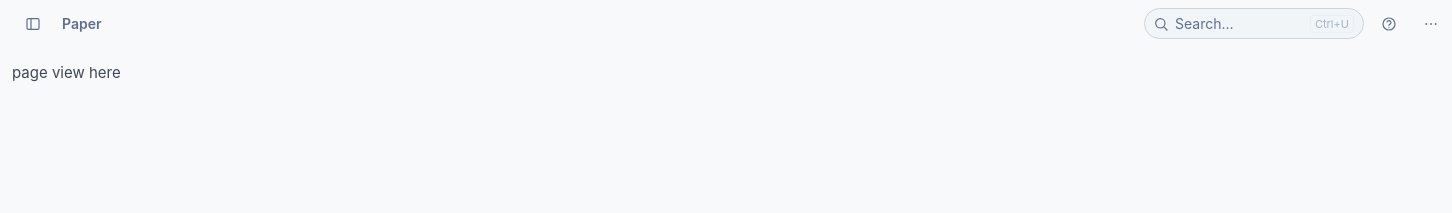
closes the menu on Escape
Click the button named "Page menu" at {"x": 1431, "y": 24}, box top-left (1414, 10), bottom-right (1448, 38)
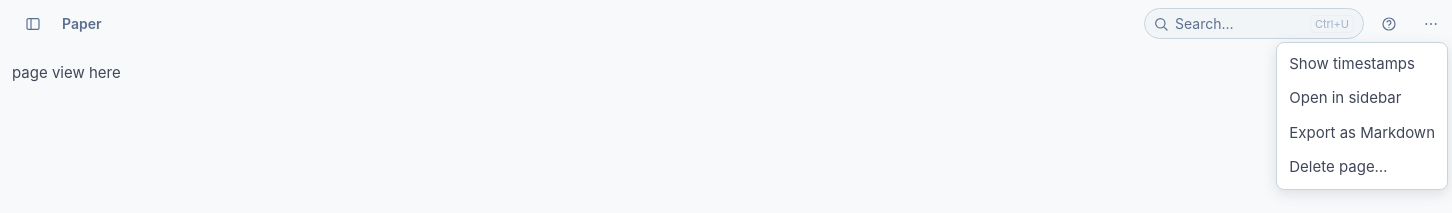
Expected: the menu is shown, top-left (1276, 42), bottom-right (1448, 190)
Press Escape
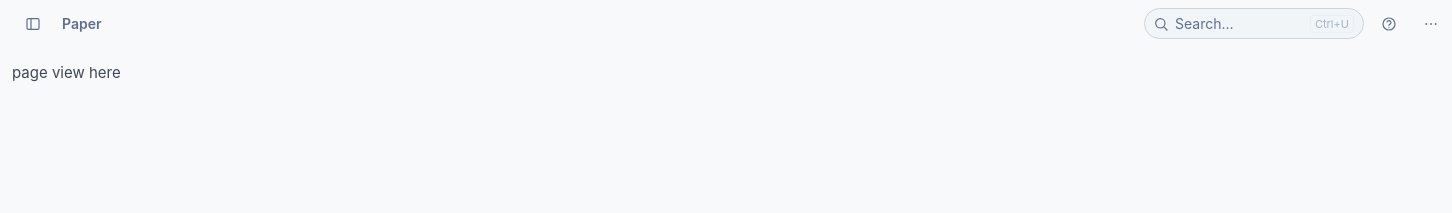
Expected: the menu is gone
